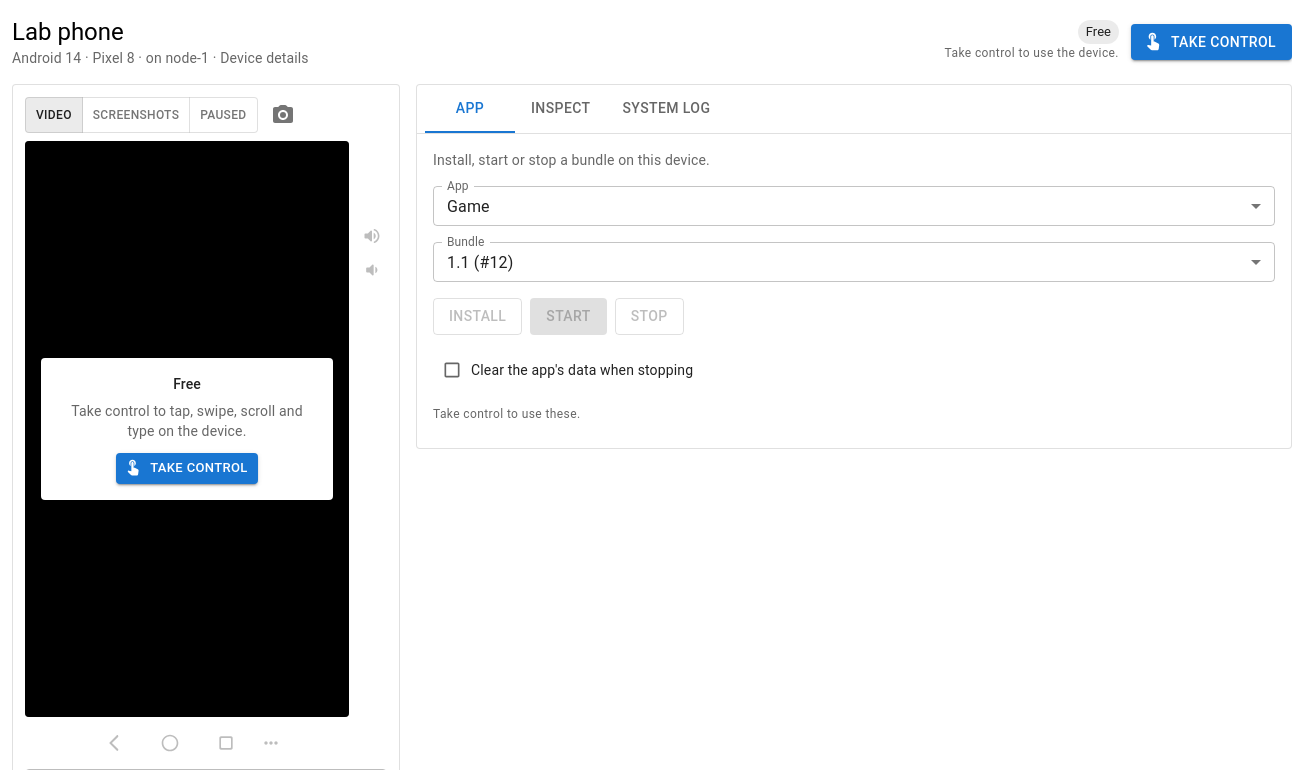
Test: the control page: screenshots › streams screenshots and taps through the REST API with the lease
Later steps or results of the test are not shown.
Expected: the heading "Lab phone" is shown, [12,18,124,46]
What coordinates should you click on to do the following:
click the button "Take control" next to "Take control to use the device."
I would click on:
 (1211, 42)
Its box is [1131,24,1292,60].
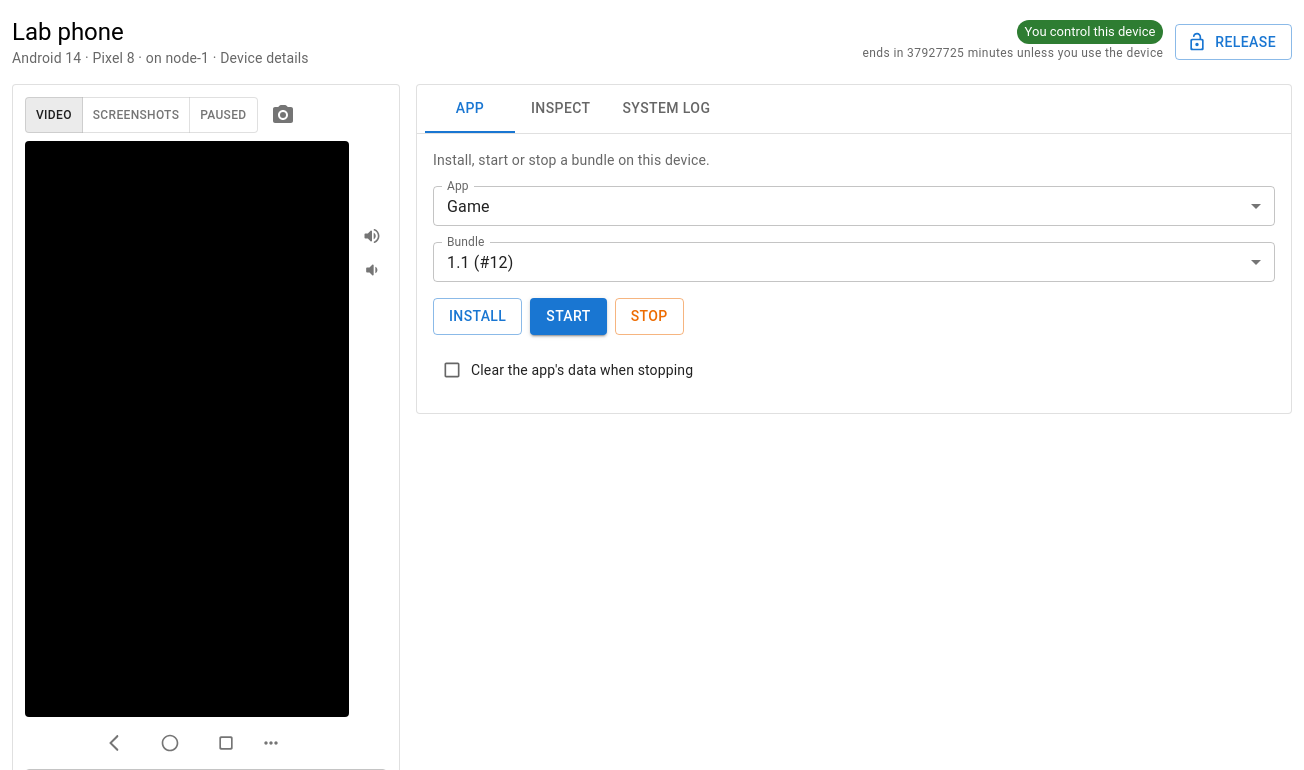
Expected: the text "You control this device" is shown, [1017,22,1163,42]
